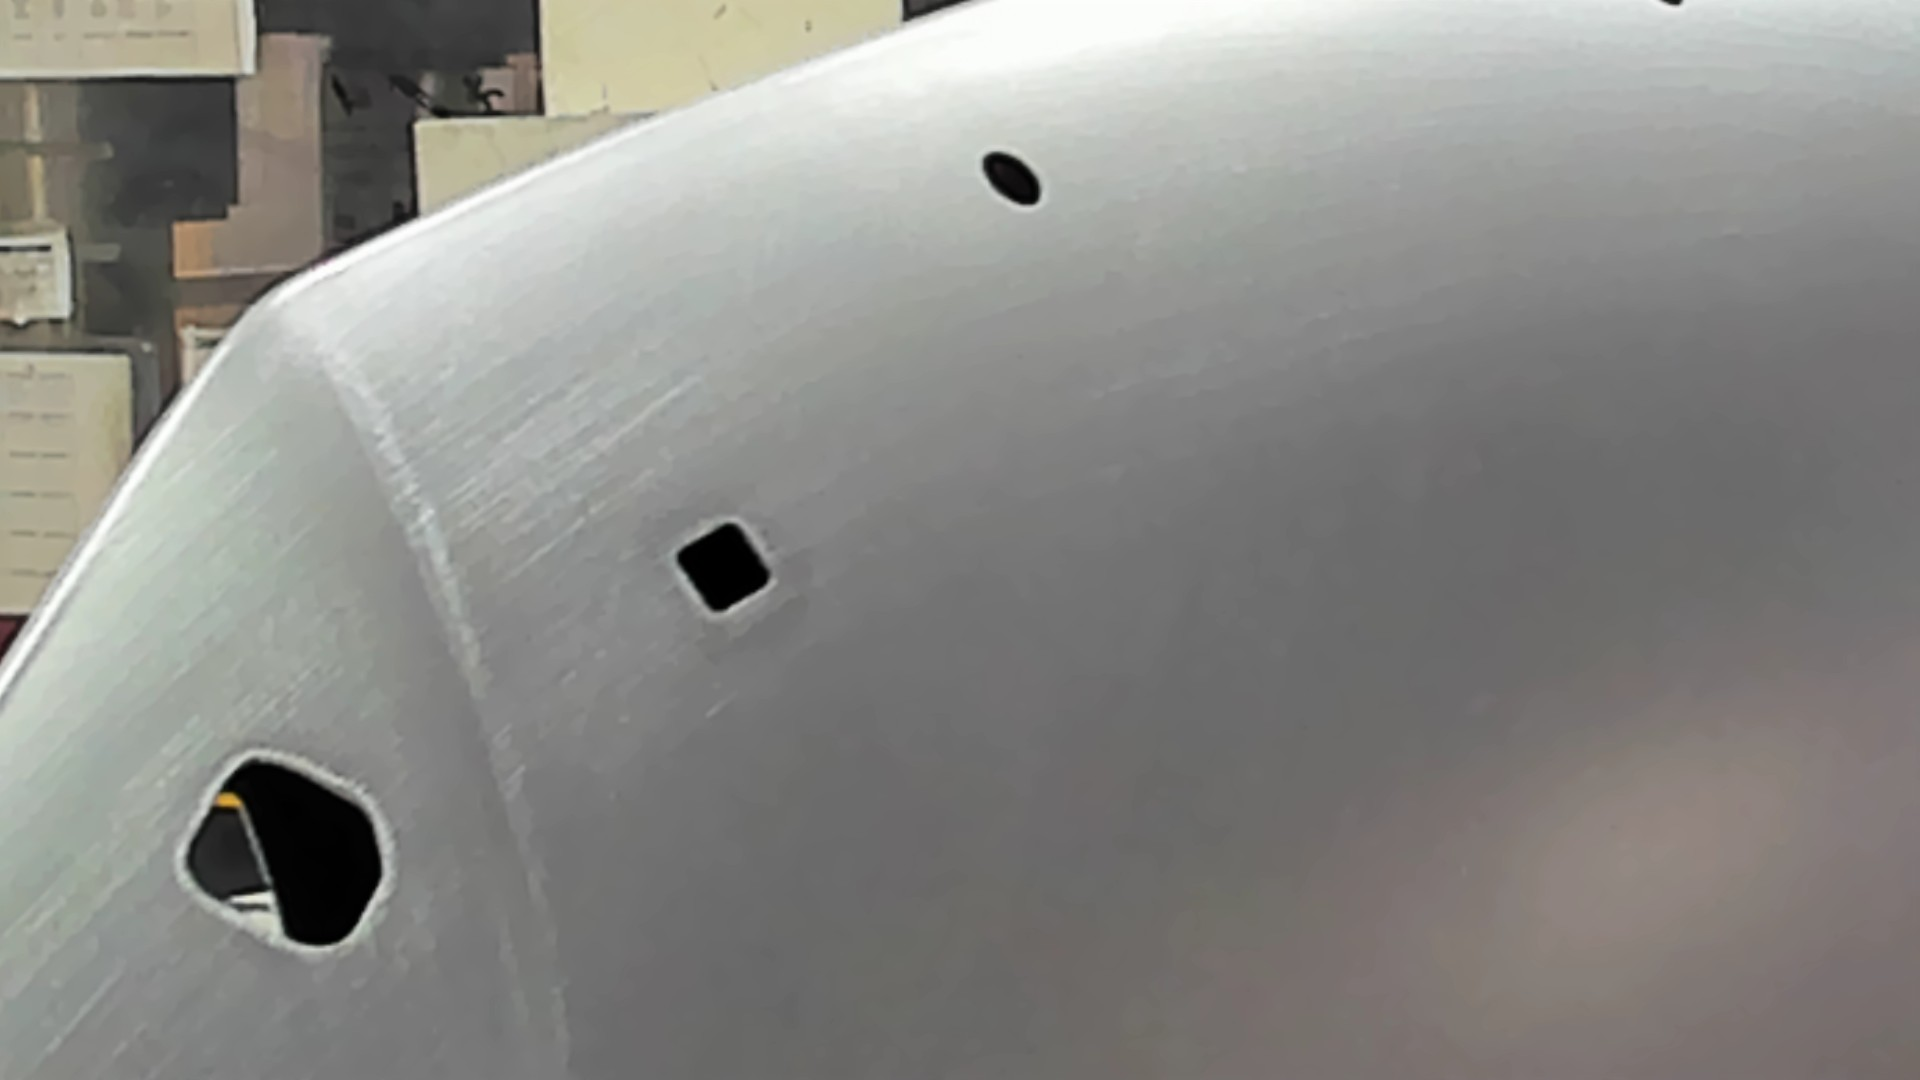chico: (978, 146, 1046, 214), (1650, 1, 1691, 13)
grande: (173, 746, 402, 963)
mediano: (665, 512, 785, 618)
